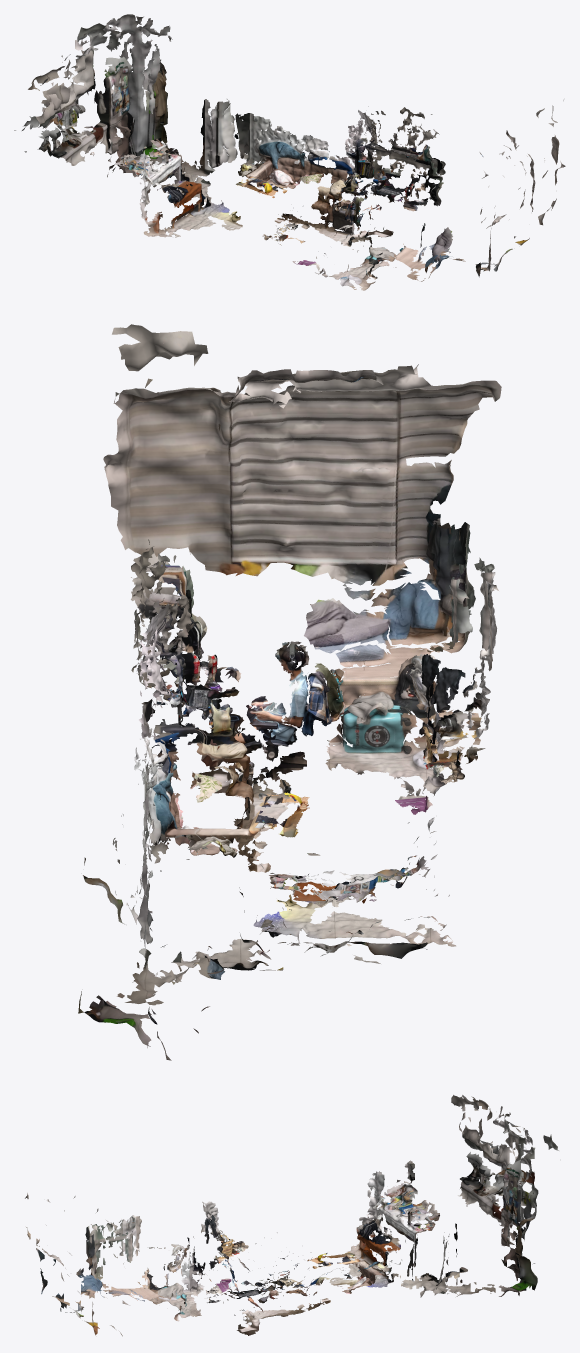
The model's file is 129187-YuanHouse-tex.glb.
3 views of the same model, one above another, from view 1: azimuth 30°, elevation 25°; view 2: azimuth 150°, elevation 25°; view 3: azimuth 270°, elevation 25° (orthographic). The views are drawn at different scales.
Visible parts, largest first — view 1: Node; view 2: Node; view 3: Node.
Boxes of the visible parts, x1,y1,x2,y2 form: Node: (14,14,565,290); Node: (78,324,501,1060); Node: (25,1095,558,1336).
Bounding box in the file's own units: 8.51 × 3.91 × 11.39.
Materials: 10 (10 with a texture image).
